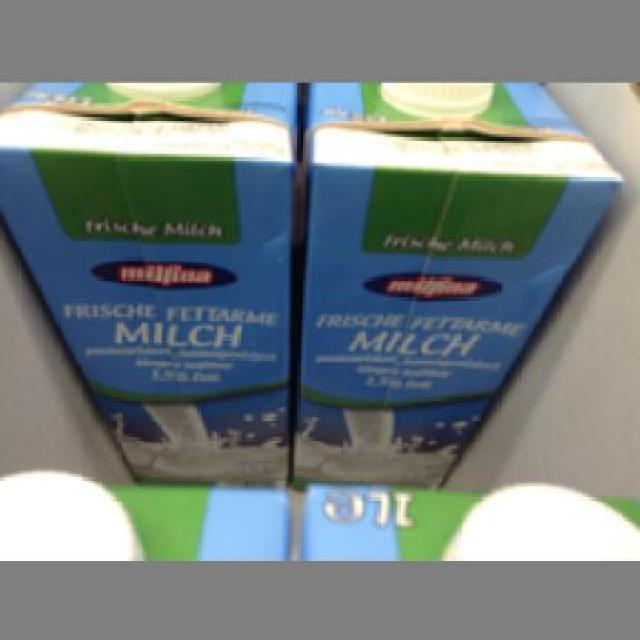Milk: (300, 80, 620, 486), (0, 77, 292, 483)
